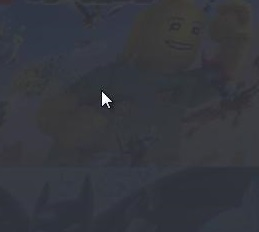cursor: (100, 89, 113, 110)
